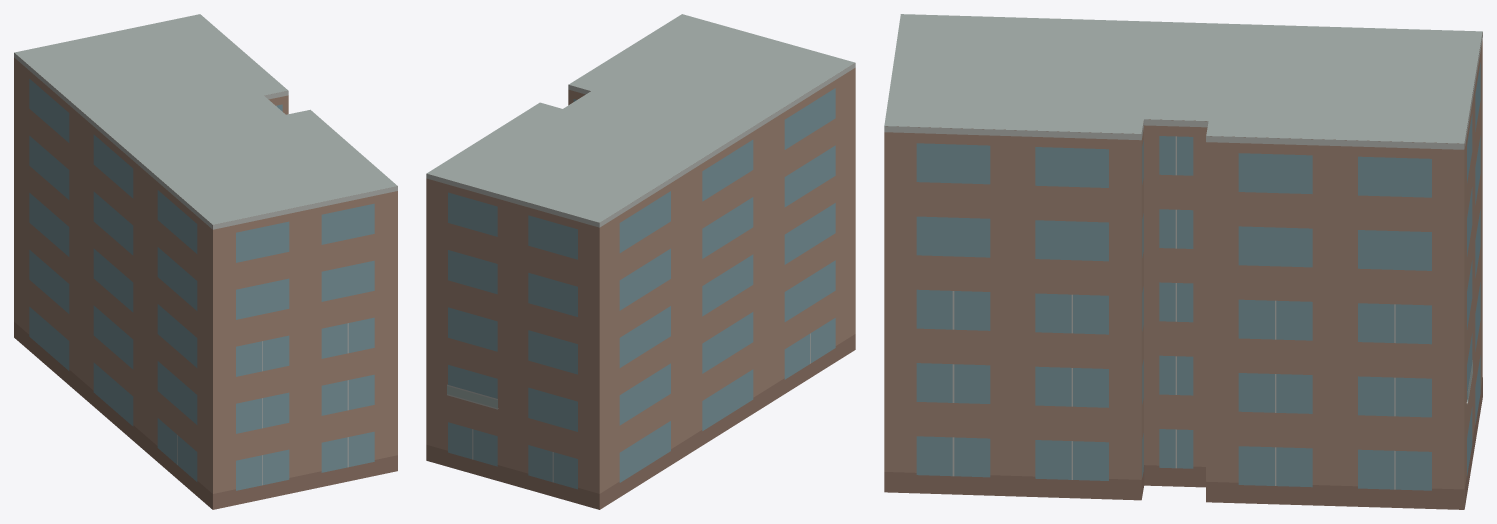
Rendered from survey-upis-32657651.glb.
3 renders of one model, left to right at view 1: azimuth 30°, elevation 25°; view 2: azimuth 150°, elevation 25°; view 3: azimuth 270°, elevation 25°, orthographic. The views are drawn at different scales.
Parts seen in each view (by area): view 1: survey-upis-32657651.tmp; view 2: survey-upis-32657651.tmp; view 3: survey-upis-32657651.tmp.
Boxes of the visible parts, <box> form: survey-upis-32657651.tmp: <box>14,14,397,509</box>; survey-upis-32657651.tmp: <box>426,14,855,509</box>; survey-upis-32657651.tmp: <box>884,14,1482,509</box>.
Bounding box in the file's own units: 10.94 × 14.4 × 21.33.
